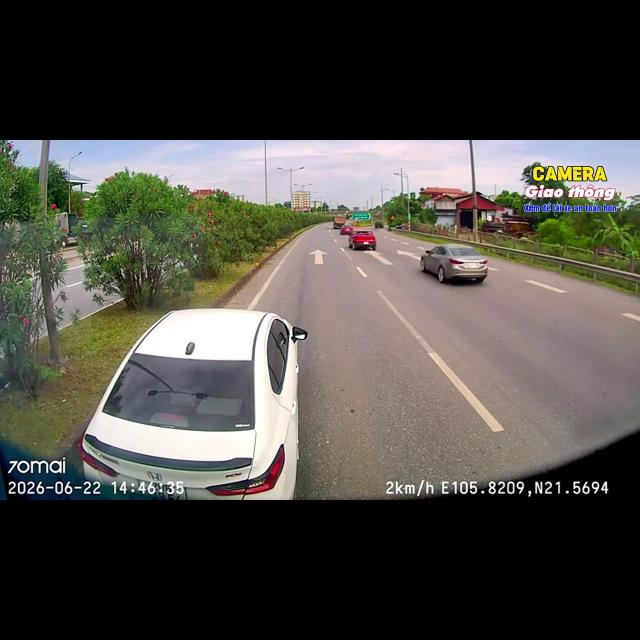car: (78, 309, 307, 499), (420, 244, 488, 282), (349, 230, 376, 250), (340, 225, 353, 234), (375, 221, 383, 228)
truck: (56, 212, 77, 247), (333, 216, 346, 228)
